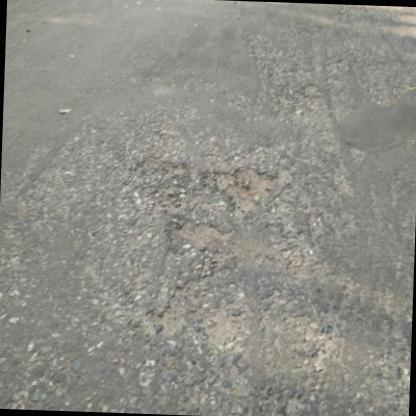pothole: (138, 146, 306, 356)
